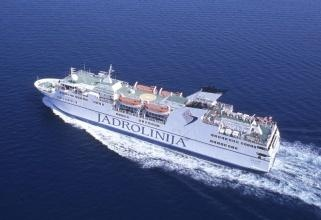youlun: (34, 59, 284, 170)
